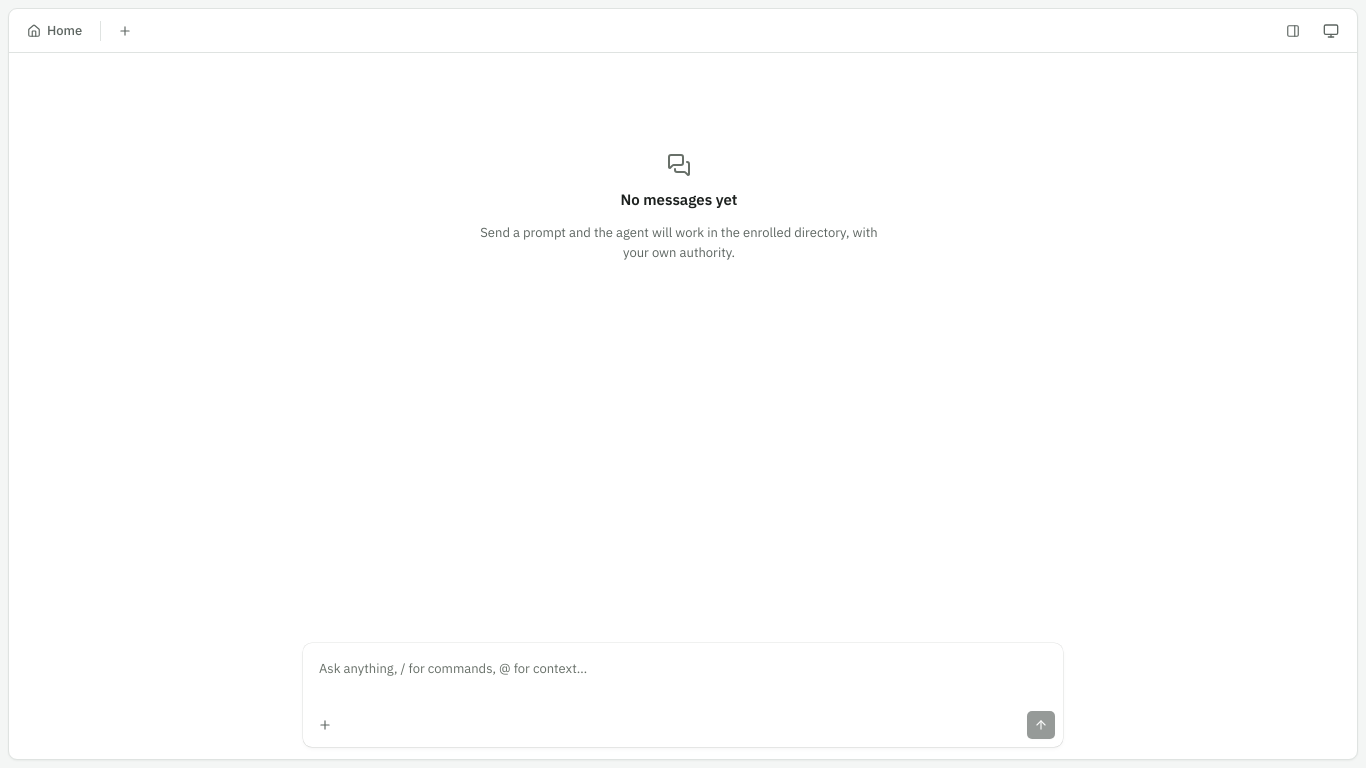
Scenario: SessionView › offers a + menu for files, commands, context, and shell
This screenshot has width=1366, height=768.
In the text box named "message the agent": (683, 673) [303, 643, 1063, 703], type "see "
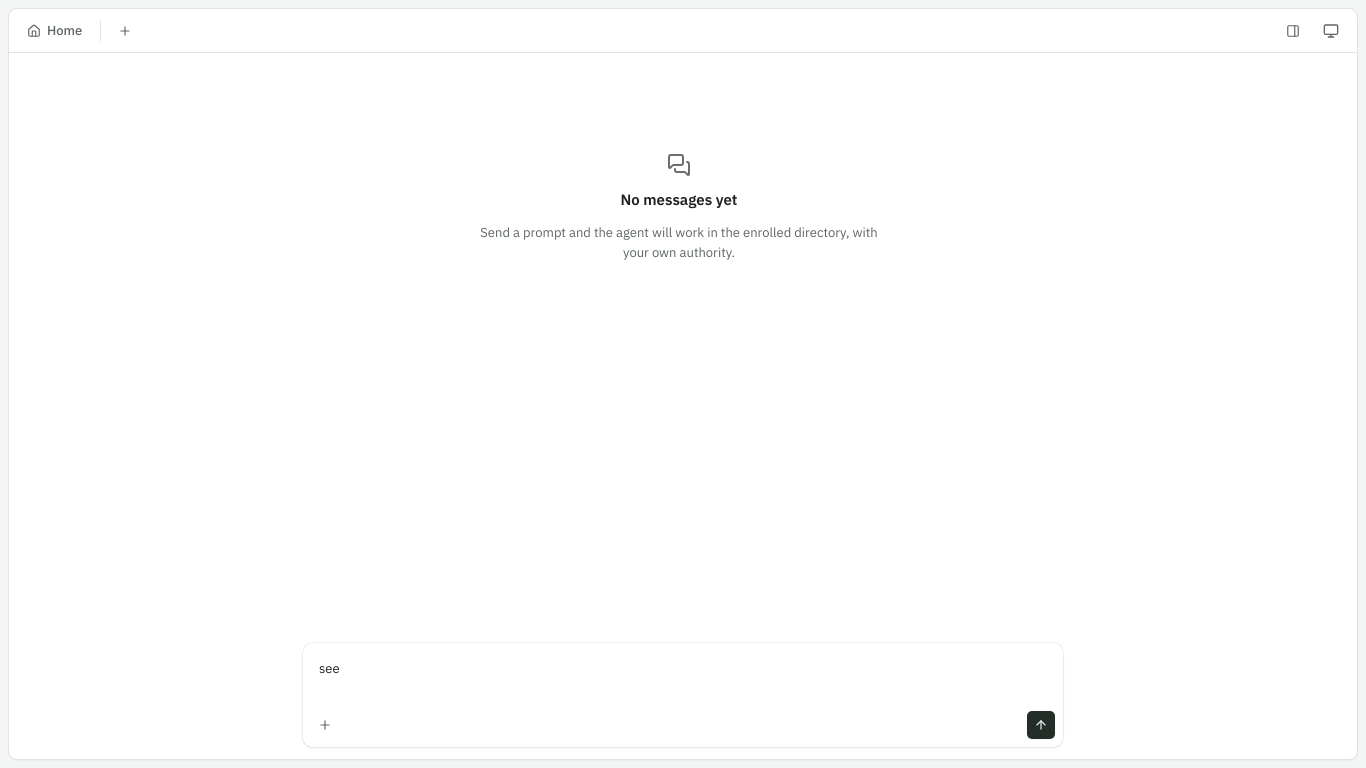
Click the button named "add to message": (325, 725) [311, 711, 339, 739]
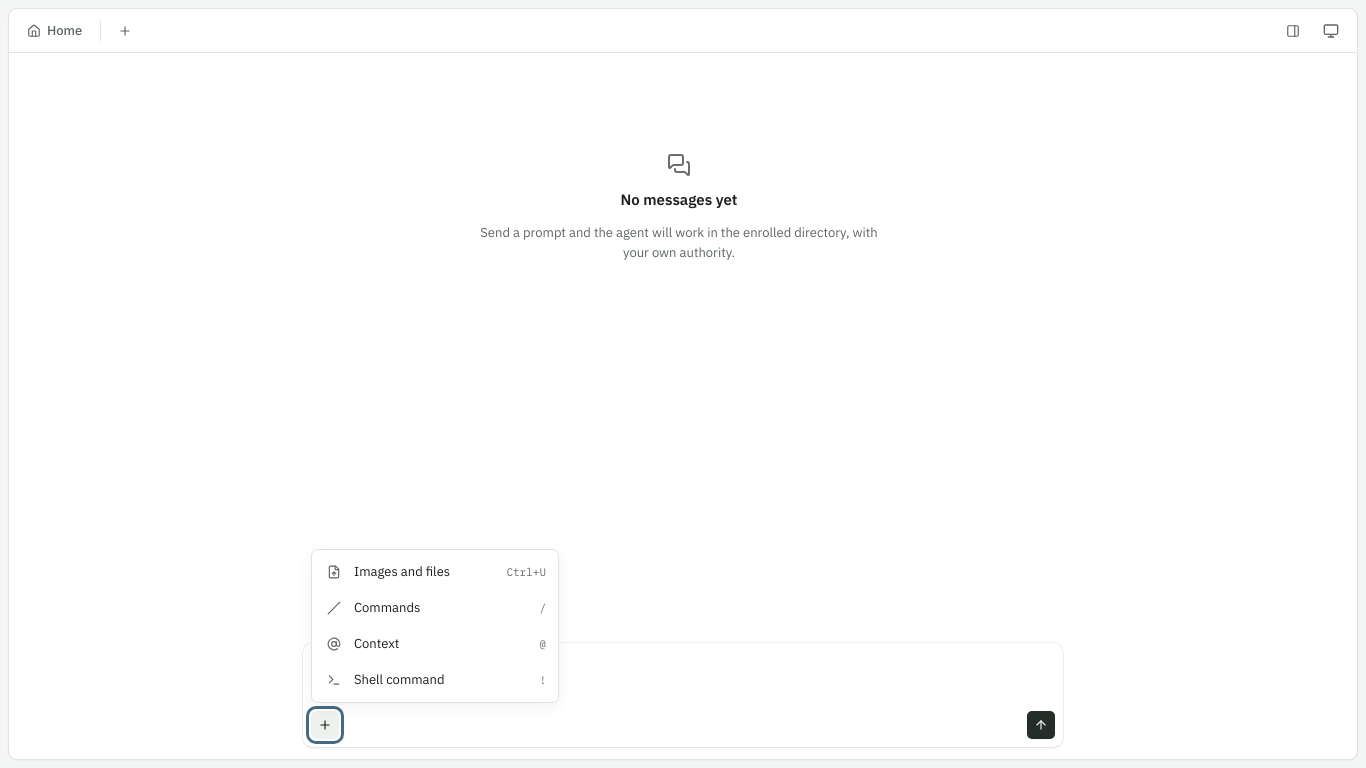
Check: the menu named "add to message" is shown, box [311, 549, 559, 703]
Check: the menu item "Images and files Ctrl+U" is shown, box [312, 554, 558, 590]
Check: the menu item "Commands /" is shown, box [312, 590, 558, 626]
Click the menu item "Context @": (435, 644) [312, 626, 558, 662]
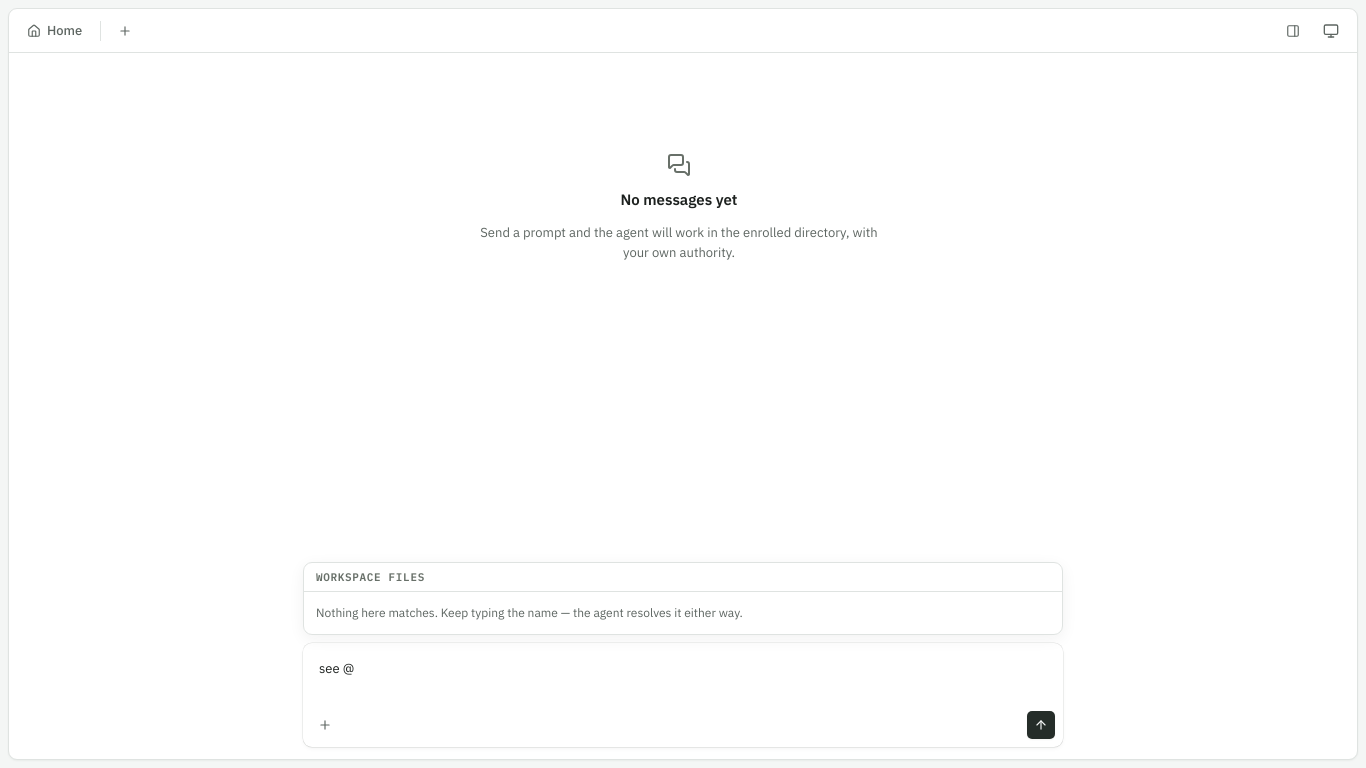
Check: the text box named "message the agent" holds "see @", box [303, 643, 1063, 703]
